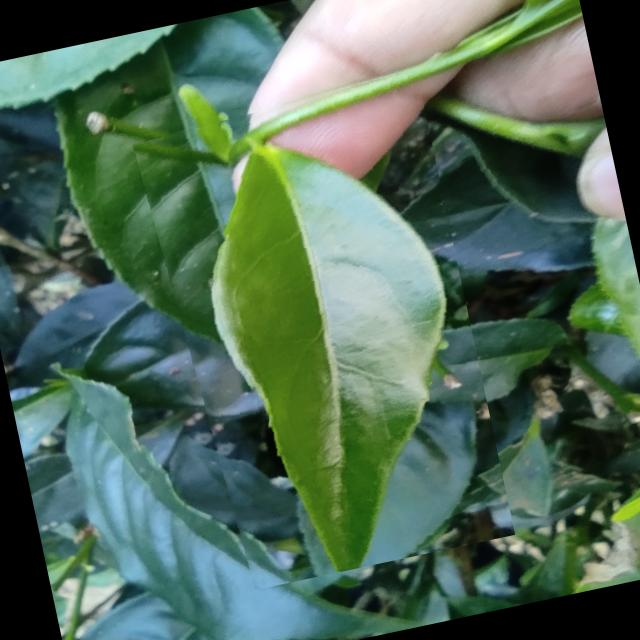Category C(4-7 days): (128, 69, 514, 596)
